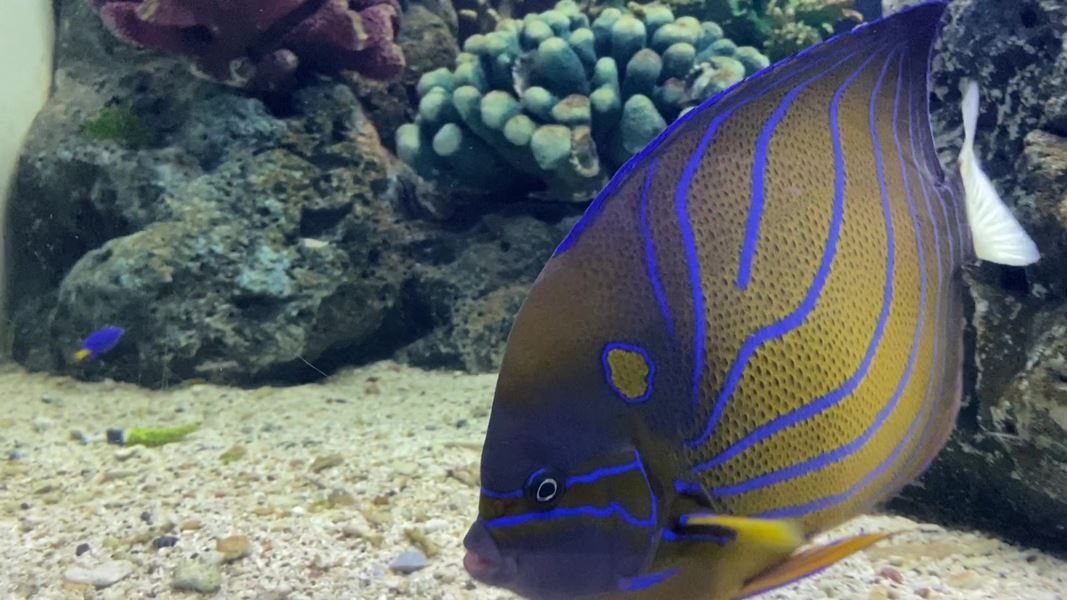Blue ring angelfish: (445, 1, 993, 597)
